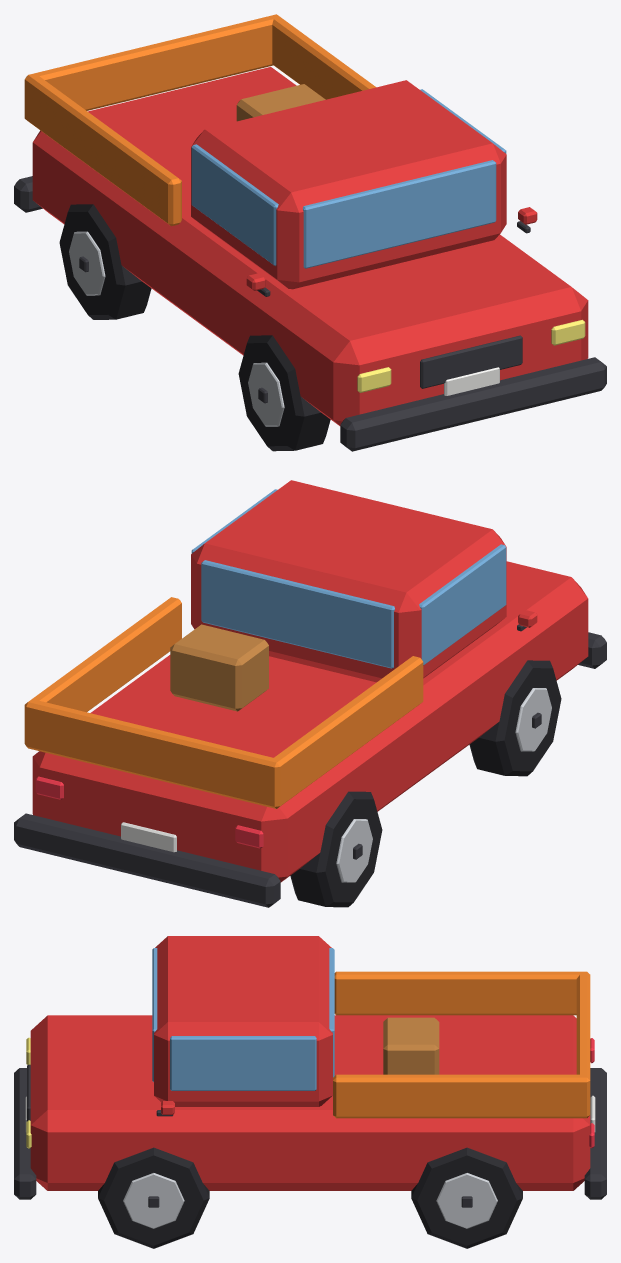
File: RedPickupTruck.fbx
3 renders of one model, top to bottom at view 1: azimuth 30°, elevation 25°; view 2: azimuth 150°, elevation 25°; view 3: azimuth 270°, elevation 25°, orthographic. The views are drawn at different scales.
Parts seen in each view (by area): view 1: RedPickupTruck, RedPickupTruck_WheelBR, RedPickupTruck_WheelFR; view 2: RedPickupTruck, RedPickupTruck_WheelBR, RedPickupTruck_WheelFR; view 3: RedPickupTruck, RedPickupTruck_WheelBL, RedPickupTruck_WheelFL.
Boxes of the visible parts, <box> form: RedPickupTruck: <box>14,14,606,451</box>; RedPickupTruck_WheelBR: <box>59,204,151,319</box>; RedPickupTruck_WheelFR: <box>238,335,330,451</box>; RedPickupTruck: <box>14,480,606,907</box>; RedPickupTruck_WheelBR: <box>290,791,382,907</box>; RedPickupTruck_WheelFR: <box>469,660,561,776</box>; RedPickupTruck: <box>14,936,606,1199</box>; RedPickupTruck_WheelBL: <box>411,1147,522,1248</box>; RedPickupTruck_WheelFL: <box>98,1147,209,1248</box>.
Bounding box in the file's own units: 5.15 × 4.25 × 10.6.
Materials: 1 (1 with a texture image).
